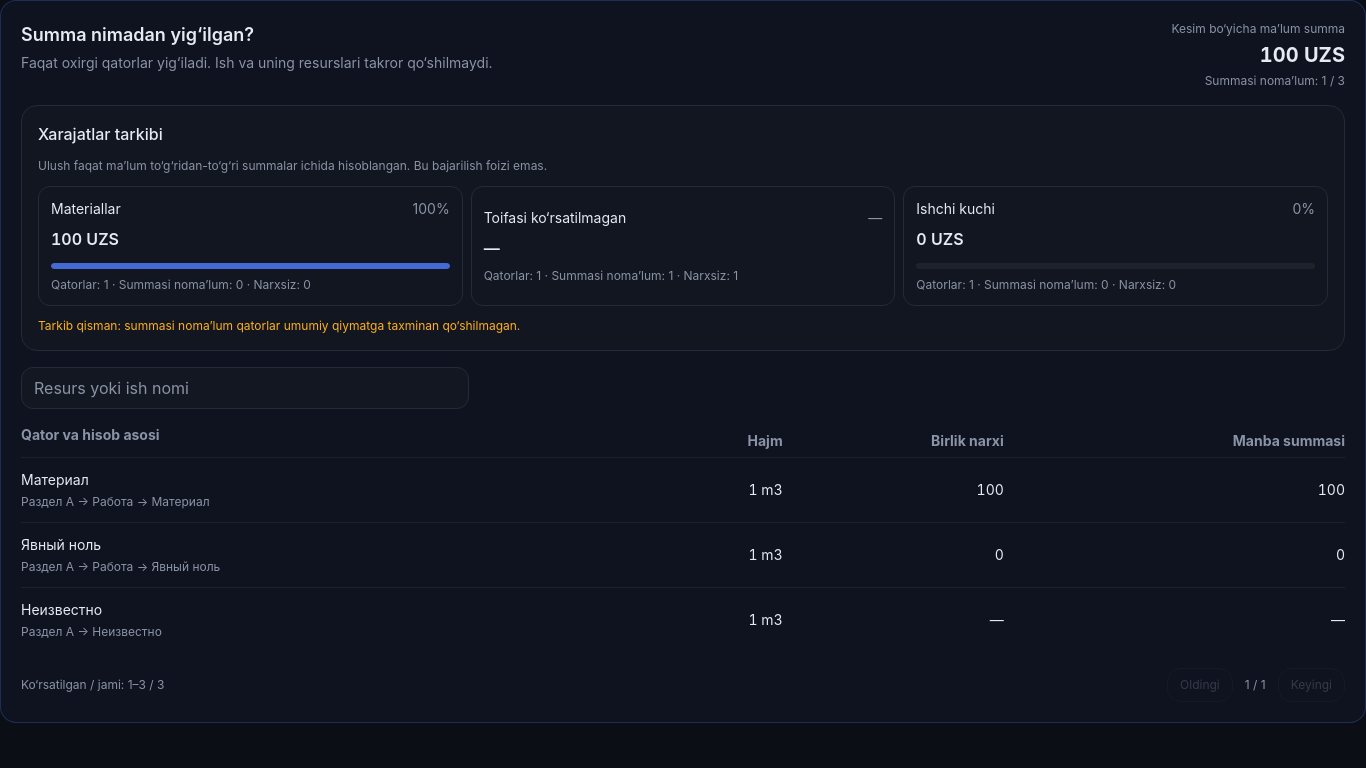
Scenario: filters source rows through an explicit cost-category selection without changing the scope total
Click the button "Materiallar" at (86,208), box [38,186,463,306]
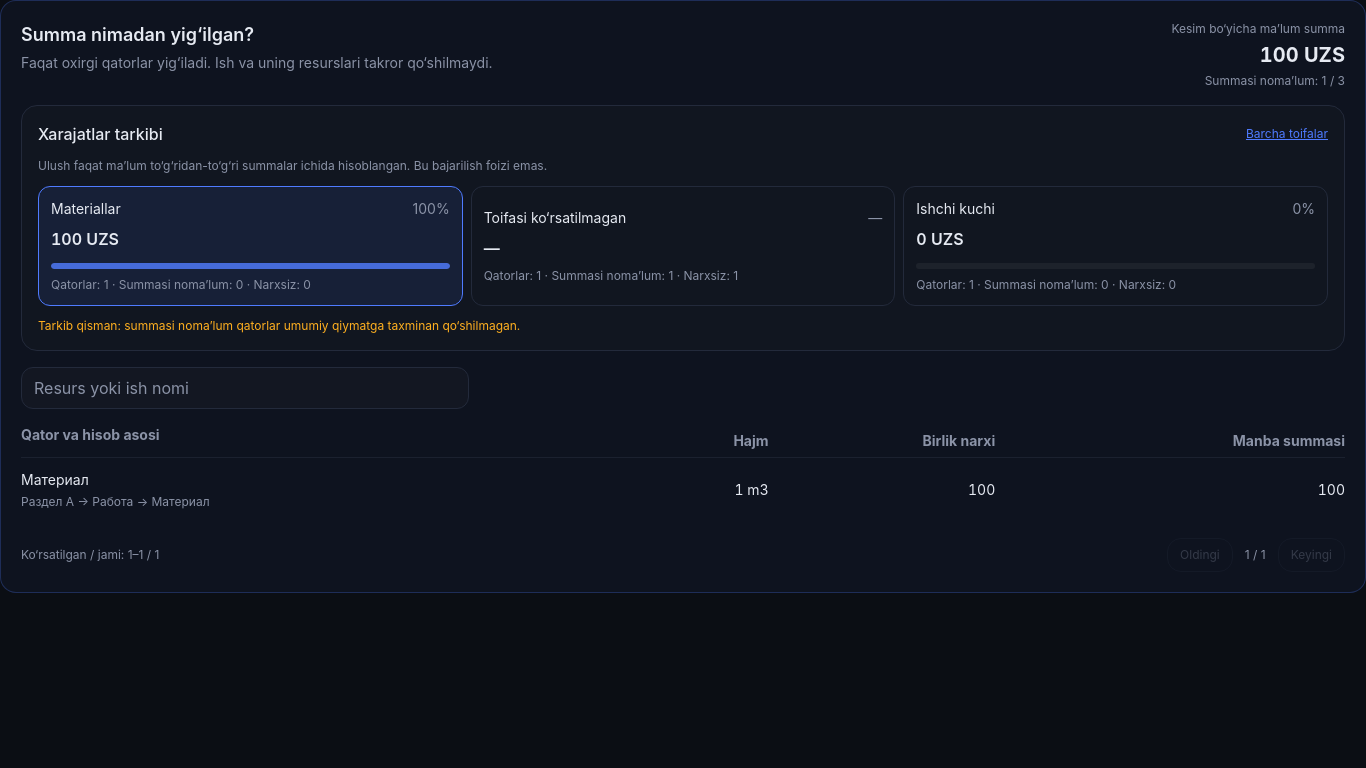
Expected: the button "Материал" is shown, [21,470,89,490]
Expected: the button "Явный ноль" is gone
Click the button "Barcha toifalar" at (1287,134), box [1246,126,1328,142]
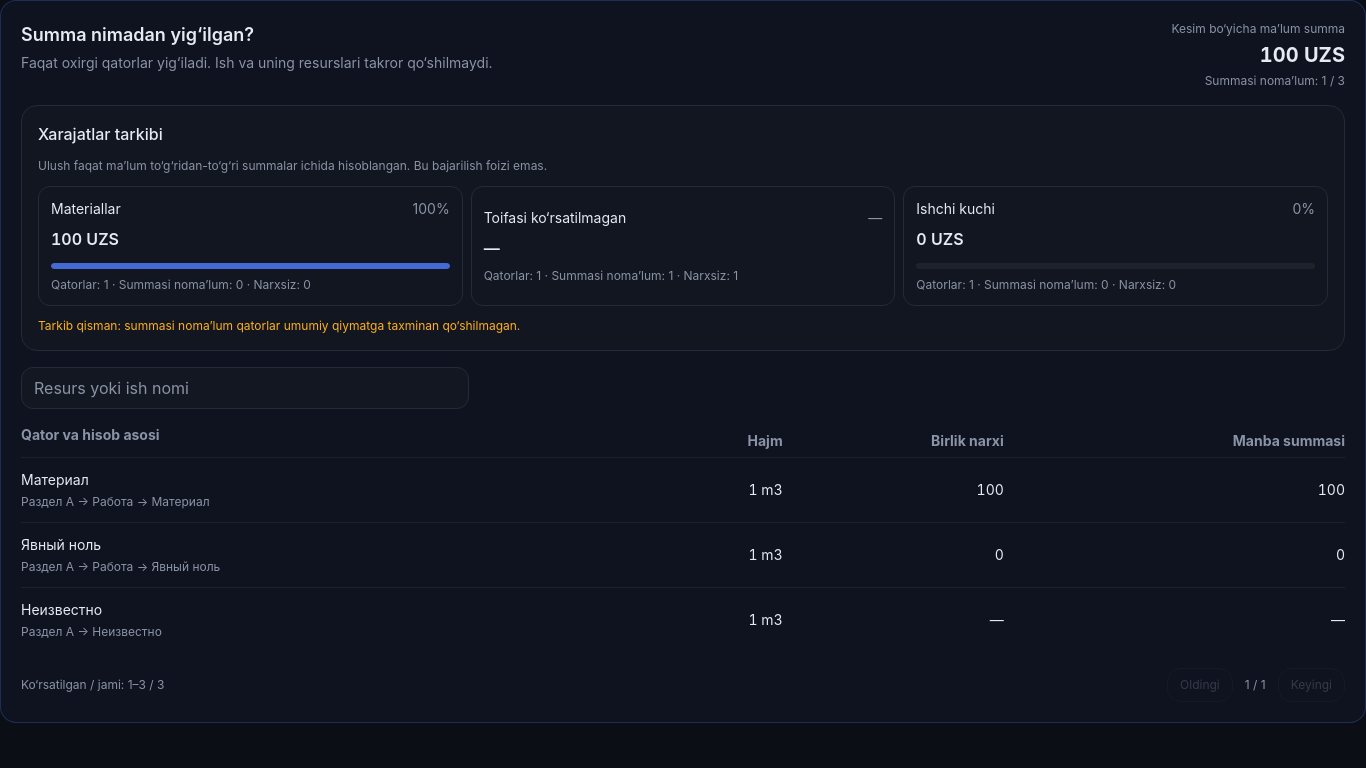
Expected: the button "Явный ноль" is shown, [21,535,101,555]
